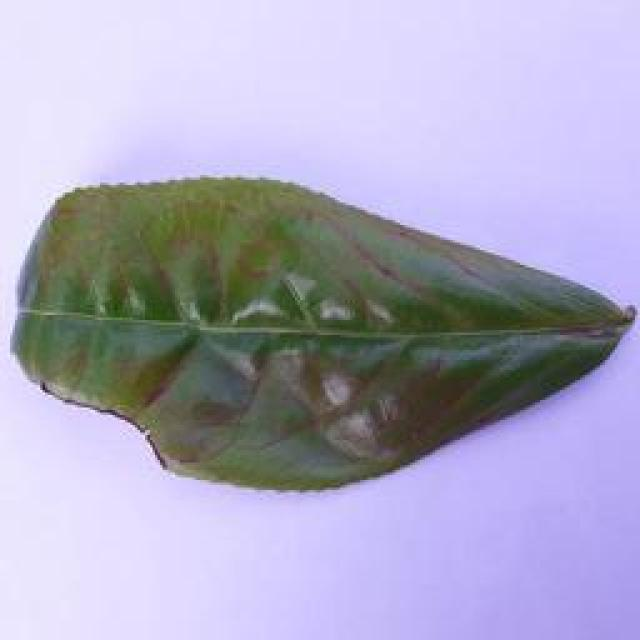Red Leaf Spot: (2, 153, 640, 505)
